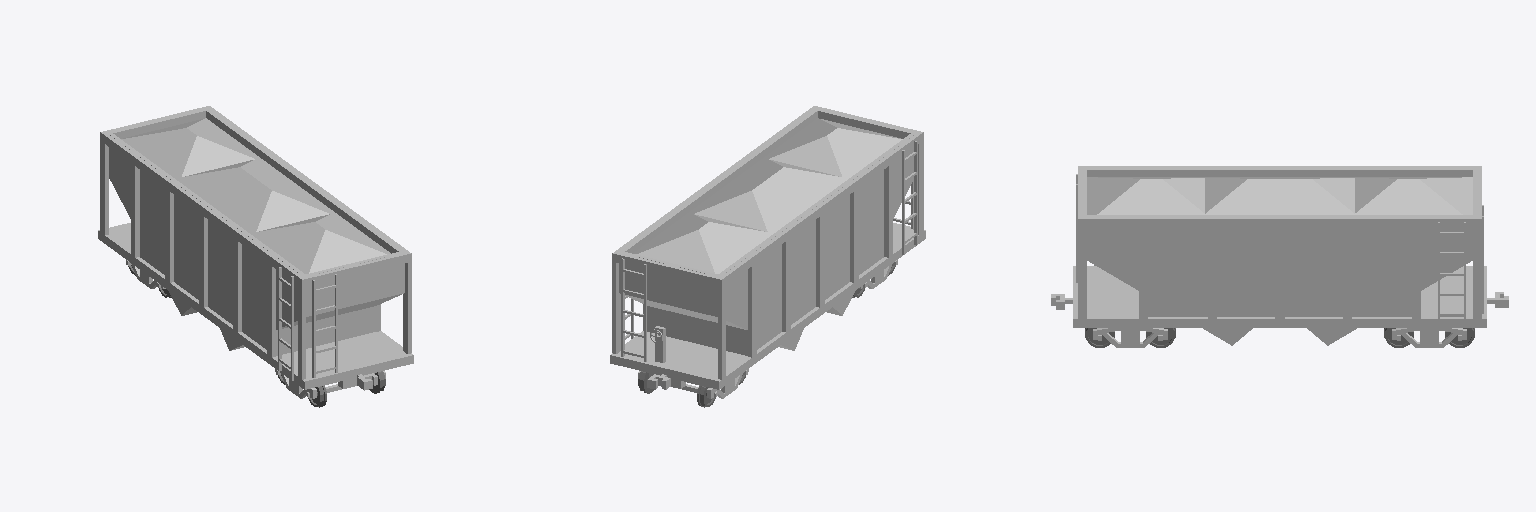
Rendered from dlxtrains_industrial_wagons_hopper_type1_loaded.obj.
3 renders of one model, left to right at view 1: azimuth 30°, elevation 25°; view 2: azimuth 150°, elevation 25°; view 3: azimuth 270°, elevation 25°, orthographic.
Parts seen in each view (by area): view 1: beam_cover; view 2: beam_cover; view 3: beam_cover.
Boxes of the visible parts, <box> form: beam_cover: <box>98,106,413,407</box>; beam_cover: <box>610,106,925,407</box>; beam_cover: <box>1051,166,1508,347</box>.
Bounding box in the file's own units: 17.5 × 22.8 × 61.25.